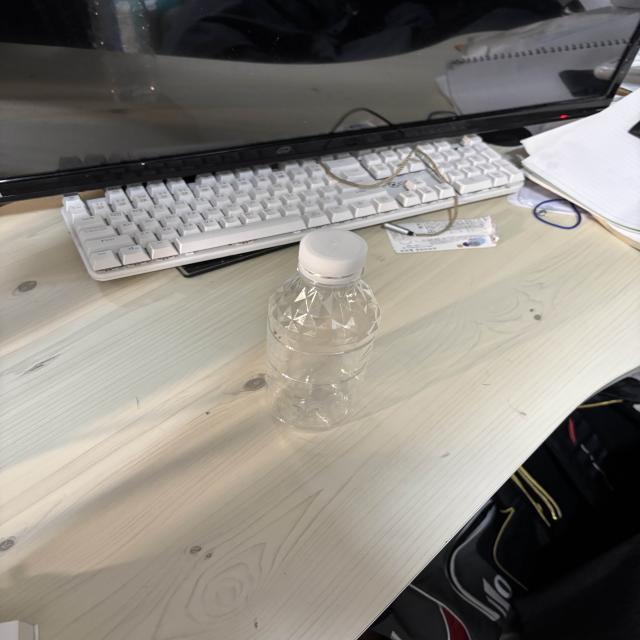Plastic: (250, 228, 386, 440)
